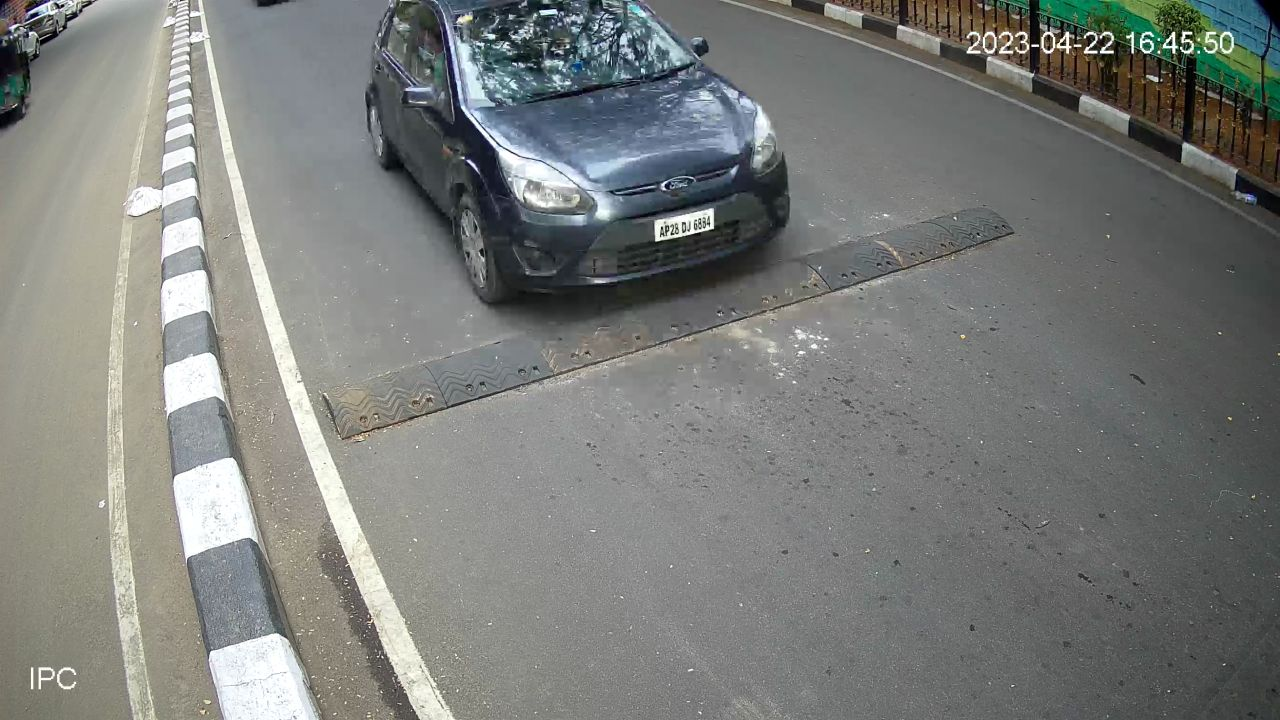license_plate: (648, 204, 720, 246)
